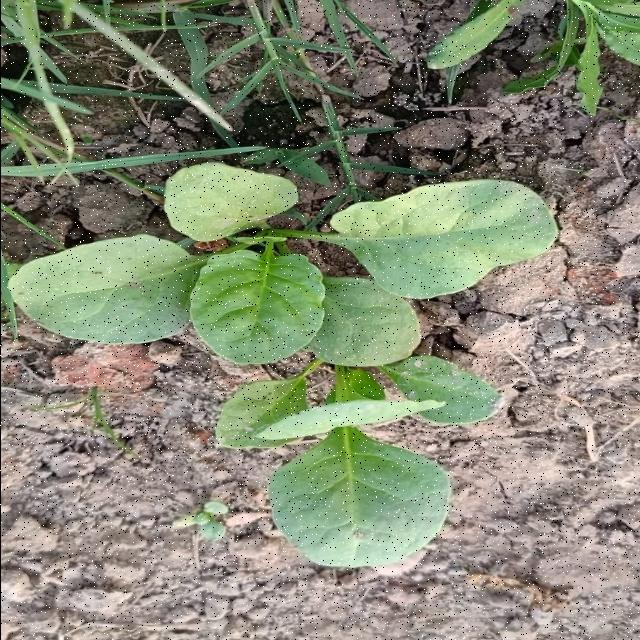plant: (10, 164, 557, 568)
